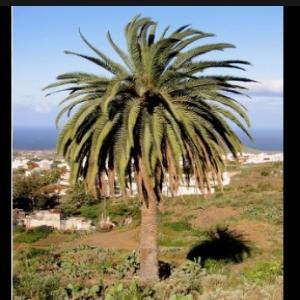palm tree: (40, 13, 258, 282)
